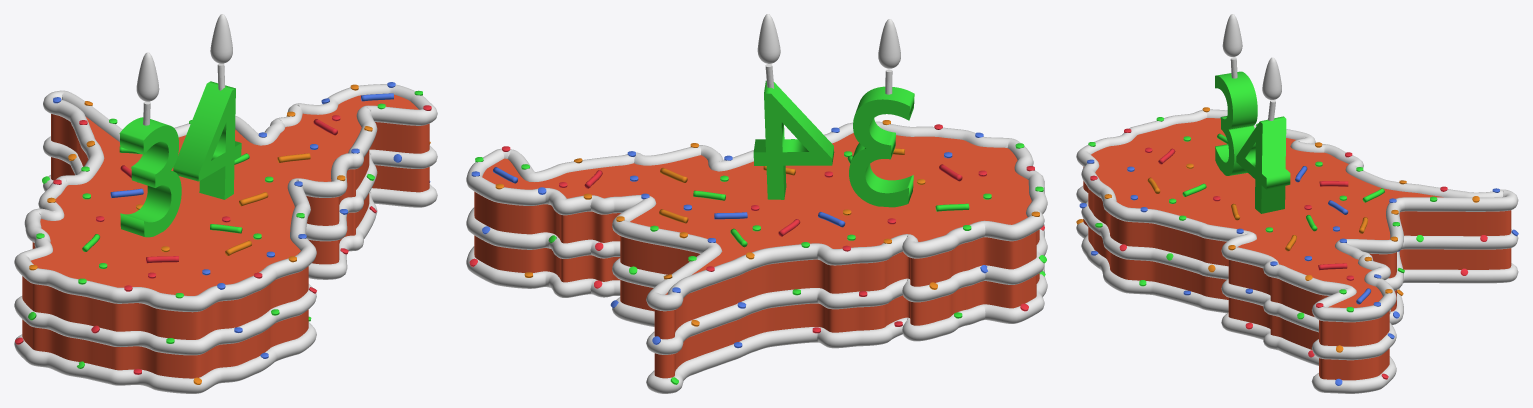
File: WVCake.glb
3 views of the same model, side by side, from view 1: azimuth 30°, elevation 25°; view 2: azimuth 150°, elevation 25°; view 3: azimuth 270°, elevation 25° (orthographic). The views are drawn at different scales.
Parts seen in each view (by area): view 1: SimplifiedWV.001, Layer1.001, Layer2.001, Layer2.002, Text4, Text3, CandleFlame2, CandleFlame1; view 2: SimplifiedWV.001, Layer1.001, Layer2.001, Layer2.002, Text3, Text4, CandleFlame1, CandleFlame2; view 3: SimplifiedWV.001, Layer1.001, Layer2.002, Layer2.001, Text4, Text3, CandleFlame1, CandleFlame2.
Boxes of the visible parts, x1=… form: SimplifiedWV.001: x1=22, y1=94, x2=429, y2=378; Layer1.001: x1=14, y1=84, x2=437, y2=312; Layer2.001: x1=14, y1=136, x2=437, y2=355; Layer2.002: x1=14, y1=175, x2=437, y2=393; Text4: x1=173, y1=81, x2=241, y2=199; Text3: x1=119, y1=117, x2=181, y2=237; CandleFlame2: x1=210, y1=14, x2=232, y2=63; CandleFlame1: x1=136, y1=52, x2=159, y2=101; SimplifiedWV.001: x1=474, y1=133, x2=1039, y2=378; Layer1.001: x1=466, y1=121, x2=1047, y2=311; Layer2.001: x1=466, y1=207, x2=1047, y2=354; Layer2.002: x1=466, y1=246, x2=1047, y2=393; Text3: x1=849, y1=86, x2=914, y2=207; Text4: x1=753, y1=80, x2=834, y2=199; CandleFlame1: x1=878, y1=19, x2=900, y2=68; CandleFlame2: x1=757, y1=14, x2=780, y2=63; SimplifiedWV.001: x1=1083, y1=118, x2=1511, y2=380; Layer1.001: x1=1076, y1=109, x2=1518, y2=322; Layer2.002: x1=1076, y1=219, x2=1518, y2=393; Layer2.001: x1=1076, y1=185, x2=1518, y2=360; Text4: x1=1236, y1=116, x2=1290, y2=213; Text3: x1=1215, y1=71, x2=1257, y2=175; CandleFlame1: x1=1222, y1=14, x2=1242, y2=56; CandleFlame2: x1=1262, y1=57, x2=1281, y2=99.
Bounding box in the file's own units: 4.78 × 2.56 × 4.36.
